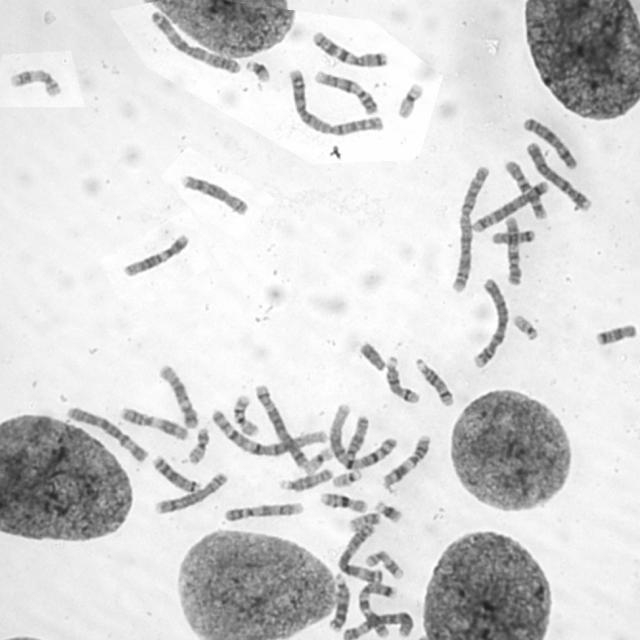A1: (208, 406, 330, 458), (325, 402, 400, 471)
A2: (286, 65, 385, 138), (447, 162, 491, 294)
A3: (148, 8, 242, 76), (334, 520, 384, 586)
B4: (523, 138, 593, 212), (470, 275, 510, 370)
B5: (252, 380, 310, 470), (470, 178, 550, 234)
C10: (501, 156, 548, 221), (501, 212, 523, 288)
C11: (379, 431, 432, 490), (118, 404, 190, 442)
C12: (120, 231, 191, 279), (156, 362, 200, 431)
C6: (63, 404, 151, 464), (341, 608, 416, 639)
C7: (310, 28, 388, 68), (355, 578, 397, 639)
C8: (151, 470, 229, 516), (179, 171, 250, 217)
C9: (312, 66, 379, 116), (220, 499, 306, 524)
D13: (150, 452, 200, 494), (326, 571, 351, 631)
D14: (413, 354, 455, 408), (383, 354, 421, 404)
D15: (278, 465, 334, 493), (343, 414, 371, 470)
E16: (230, 392, 261, 438), (317, 489, 368, 514)
E17: (7, 66, 63, 99), (362, 547, 406, 581)
E18: (591, 321, 637, 347), (488, 227, 537, 246)
F19: (394, 79, 424, 120), (304, 444, 335, 474)
F20: (185, 425, 211, 464), (347, 509, 382, 532)
G21: (373, 498, 404, 524), (243, 57, 273, 83)
G22: (511, 312, 540, 342), (329, 466, 364, 488)
X: (520, 114, 580, 170)
Y: (357, 338, 387, 372)
